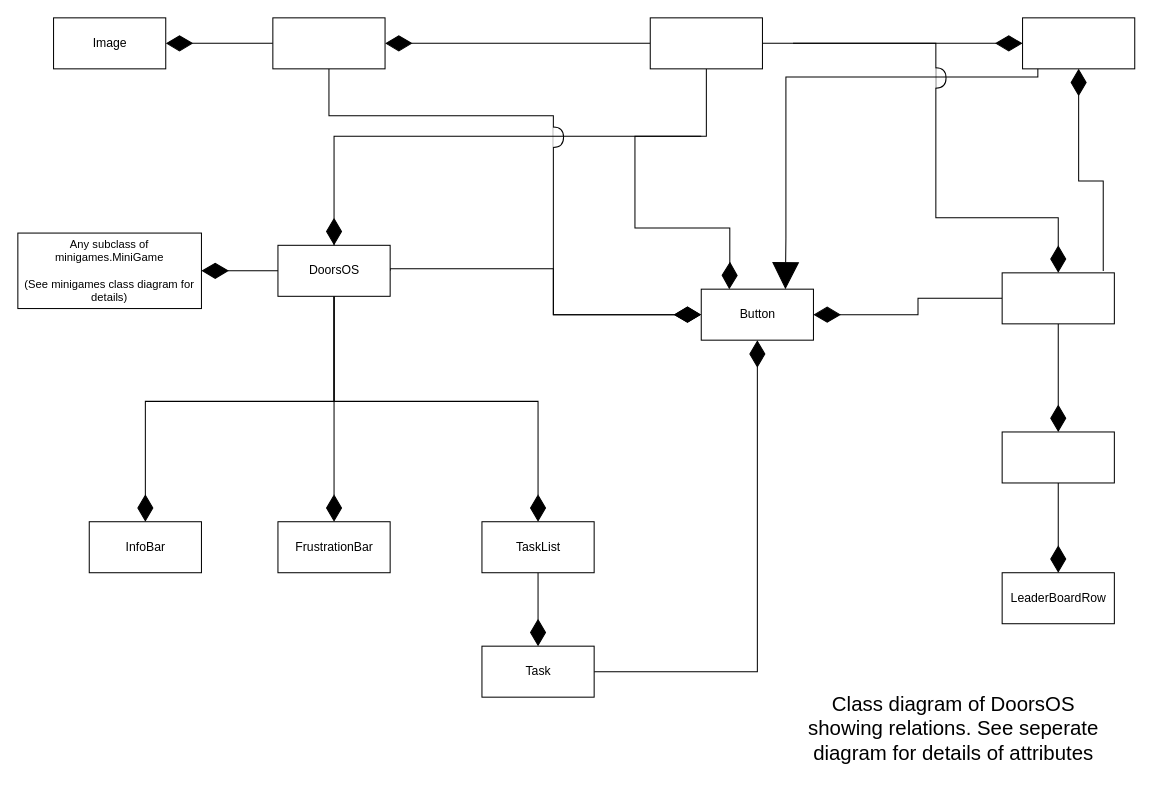
This 1153x807 diagram has some shape labels left out. The shapes that lost their labels are listed below. From the top down, each one's centre as x and y in pixels, then its label:
At [328,43]: "LearningMode".
At [705,43]: "MainMenu".
At [1078,43]: "ToggleButton".
At [1057,298]: "LeaderBoardScreen".
At [1057,457]: "LeaderBoard".
